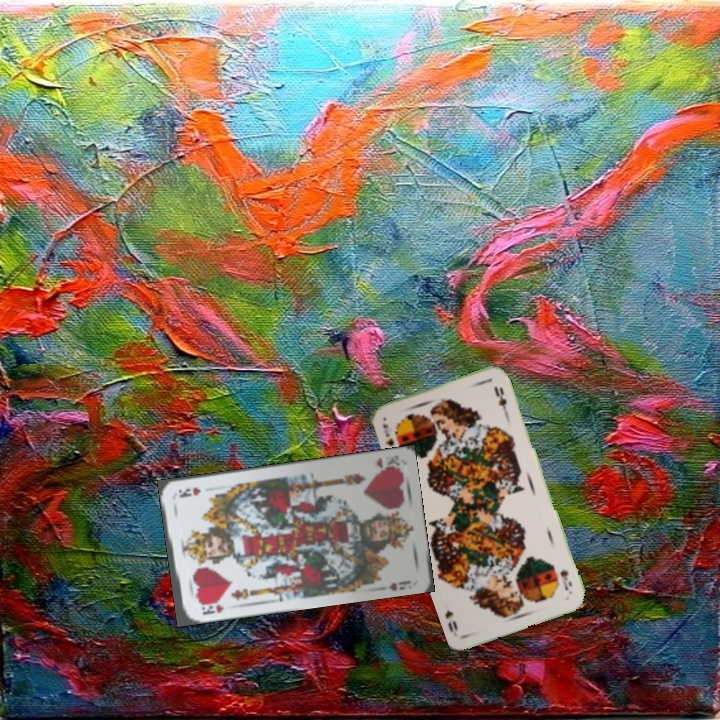HK: (372, 451, 401, 472), (198, 601, 226, 617)
SO: (379, 419, 397, 449), (556, 566, 575, 593)
